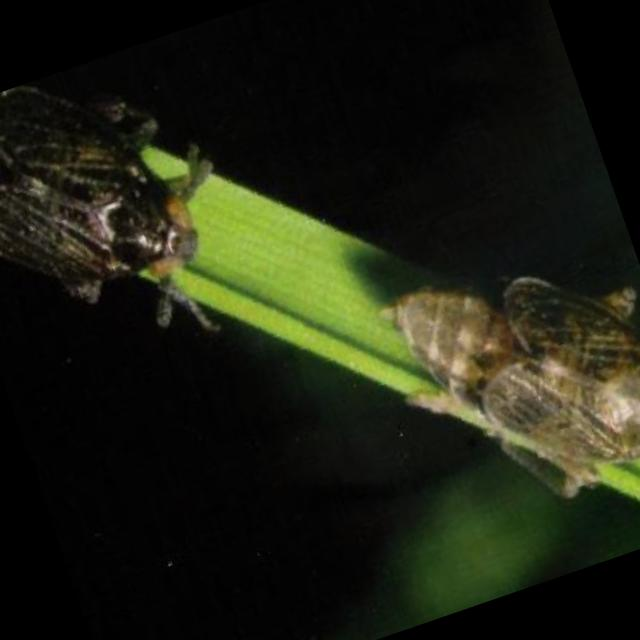brown-planthopper: (373, 189, 640, 586)
